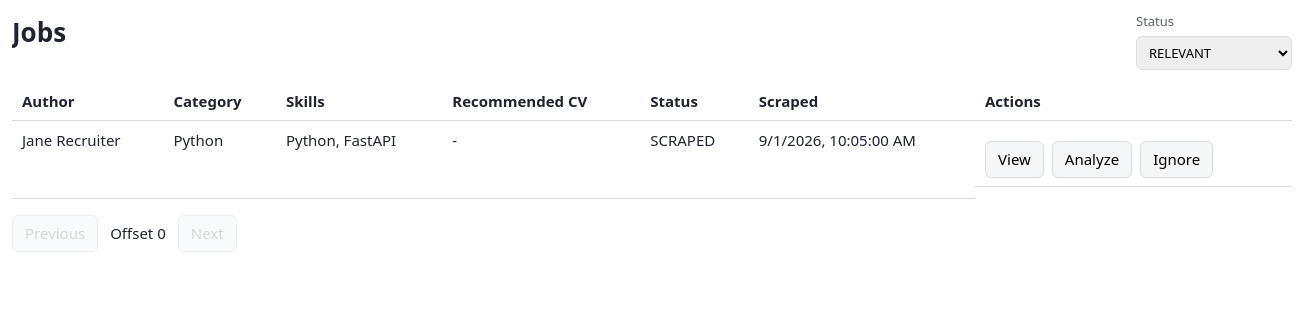
JobList › shows an action error (e.g. 409 conflict) without silently swallowing it
Expected: the text "Jane Recruiter" is shown, [12,120,163,198]
Click the button "Analyze" at (1092, 159), box [1052,141,1132,178]
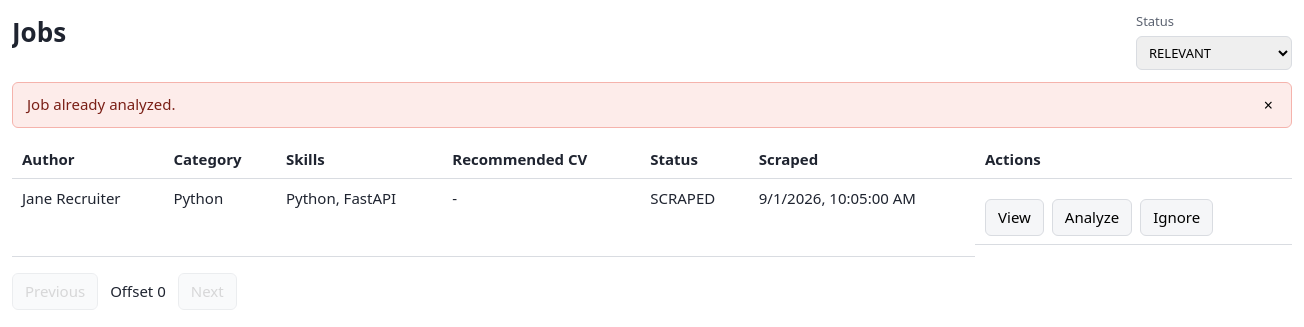
Expected: the message shows "Job already analyzed.", [27,94,176,114]
